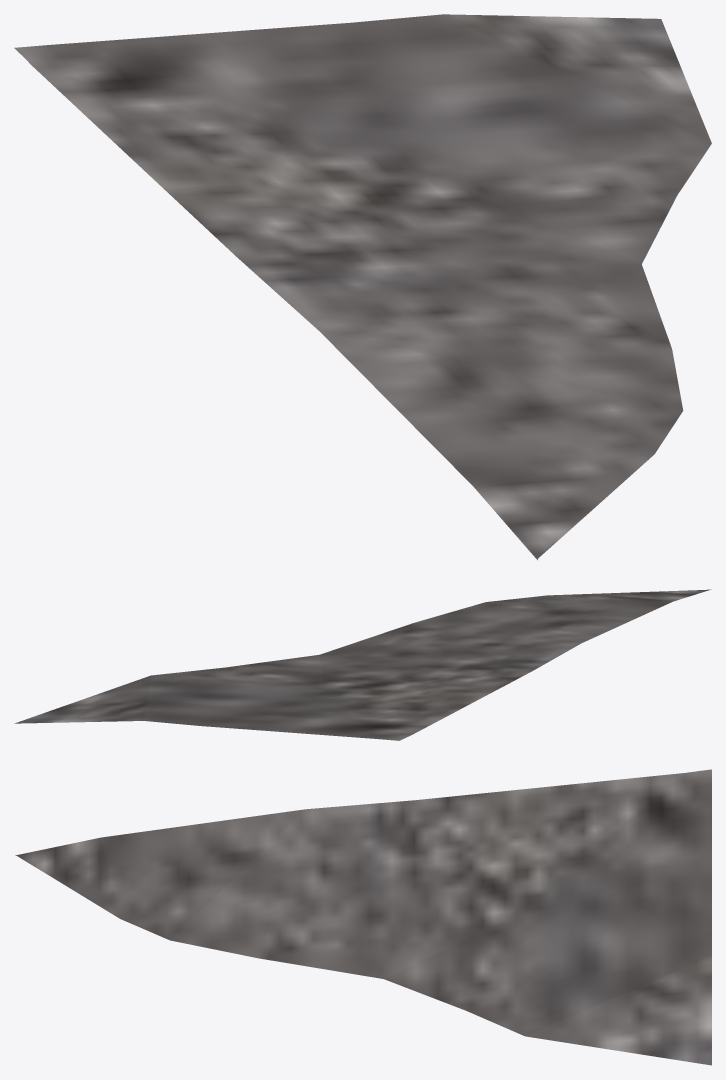
3 renders of one model, top to bottom at view 1: azimuth 30°, elevation 25°; view 2: azimuth 150°, elevation 25°; view 3: azimuth 270°, elevation 25°, orthographic. The views are drawn at different scales.
Size of the model in its own units: 0.1412 by 0.0269 by 0.1982.
1 material, 1 textured.
